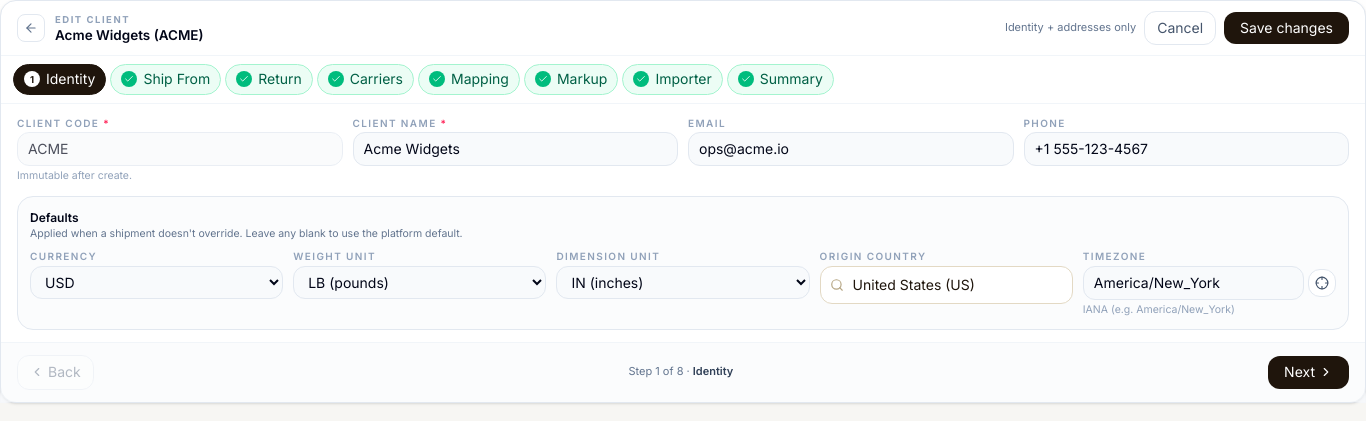
Test: ClientEditorPage · ShipFrom · positive › renders picker + "Add warehouse" button + PLATFORM optgroup
Expected: the field with placeholder "MA1885" is shown, [17,132,342,166]
Click the tab "Ship From". click: click(166, 79)
box: [110,64,221,95]
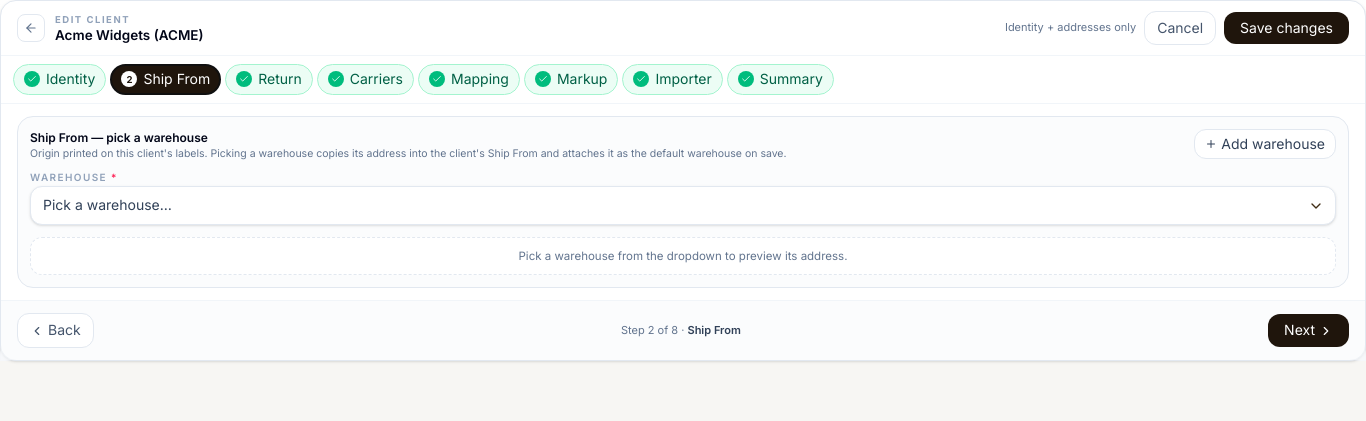
Expected: the heading "Ship From — pick a warehouse" is shown, [30,130,208,145]
Expected: the dropdown named "Ship From warehouse" is shown, [30,186,1336,225]
Expected: the button "Add warehouse" is shown, [1194,129,1336,159]
